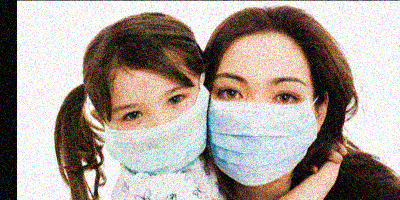with_mask: (209, 71, 315, 187), (101, 82, 211, 170)
